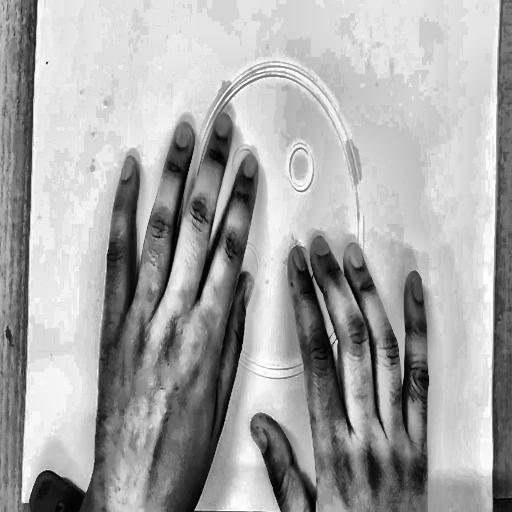bottom_left: (18, 493, 26, 508)
button: (180, 53, 381, 397)
